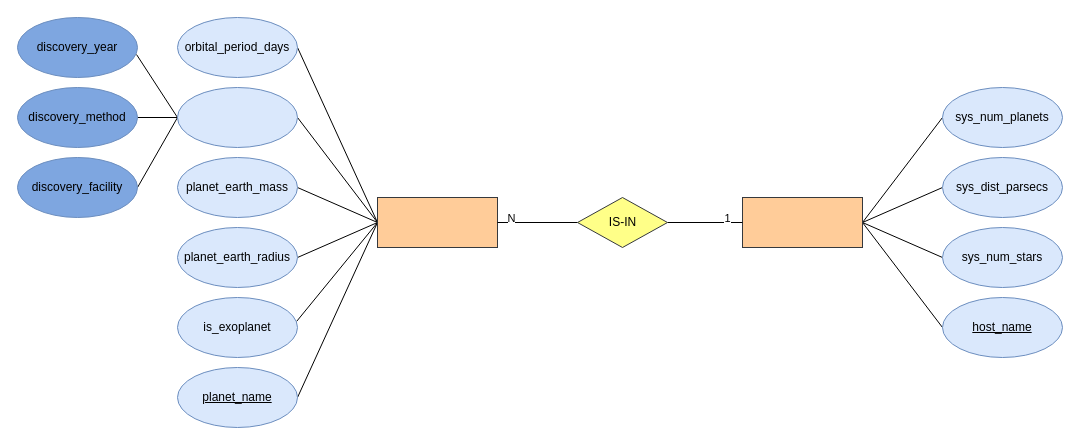
Image size: 1080x445. Some labels were removed from this diagram. Each missing label, with the centre of its shape:
discovery_info: [237,117]
Planet: [437,222]
Star System: [802,222]
